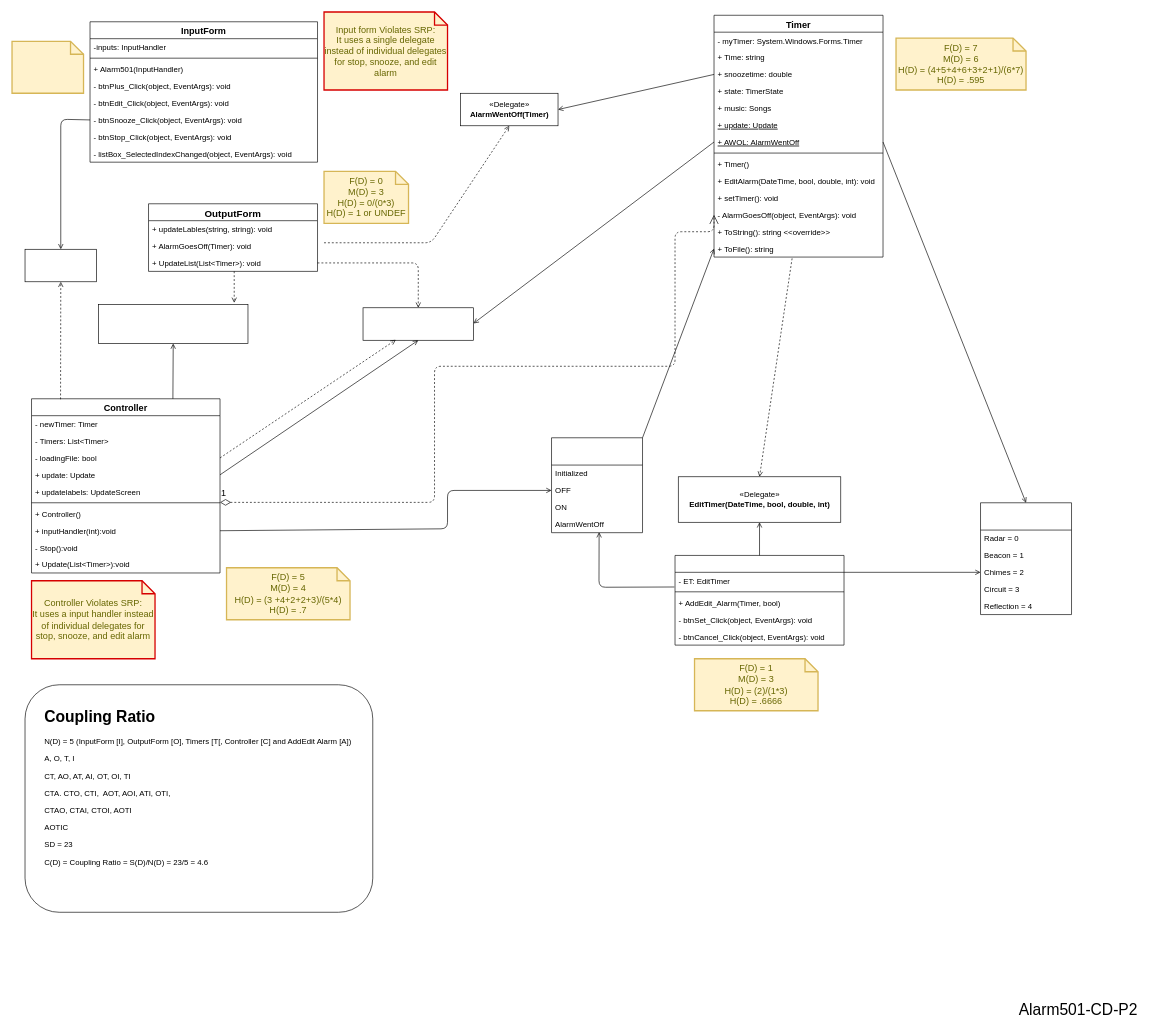
Image size: 1154x1030. Some labels were removed from this diagram. Each missing label, with the box of its shape:
AddEdit_Alarm Input: (674, 555, 844, 645)
F(D) = 1 M(D) = 6 H(D) = 5/(1*6) H(D) = .8333: (11, 40, 84, 94)
«Delegate» InputHandler(int): (24, 249, 97, 282)
«Delegate» Update(List<Timer>): (362, 307, 474, 340)
«Delegate» UpdateScreen(string, string): (98, 304, 248, 344)
«Enum» Songs: (980, 502, 1072, 615)
«Enum» TimerState: (551, 437, 643, 533)
